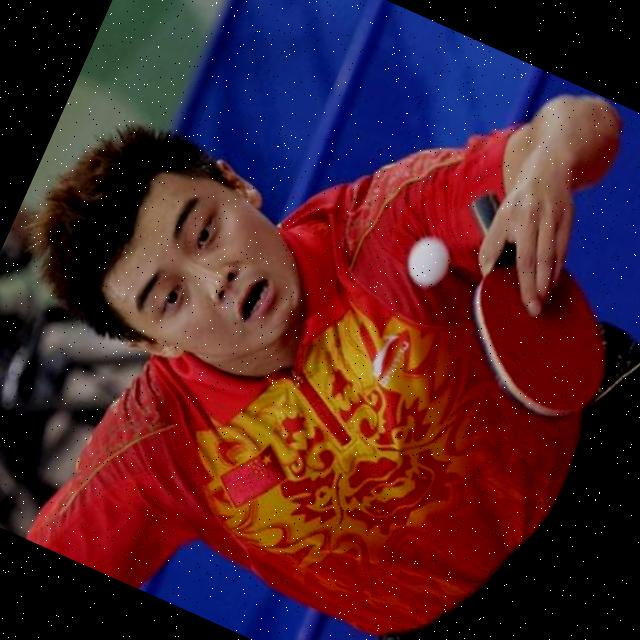ping-pong-ball: (396, 226, 461, 296)
